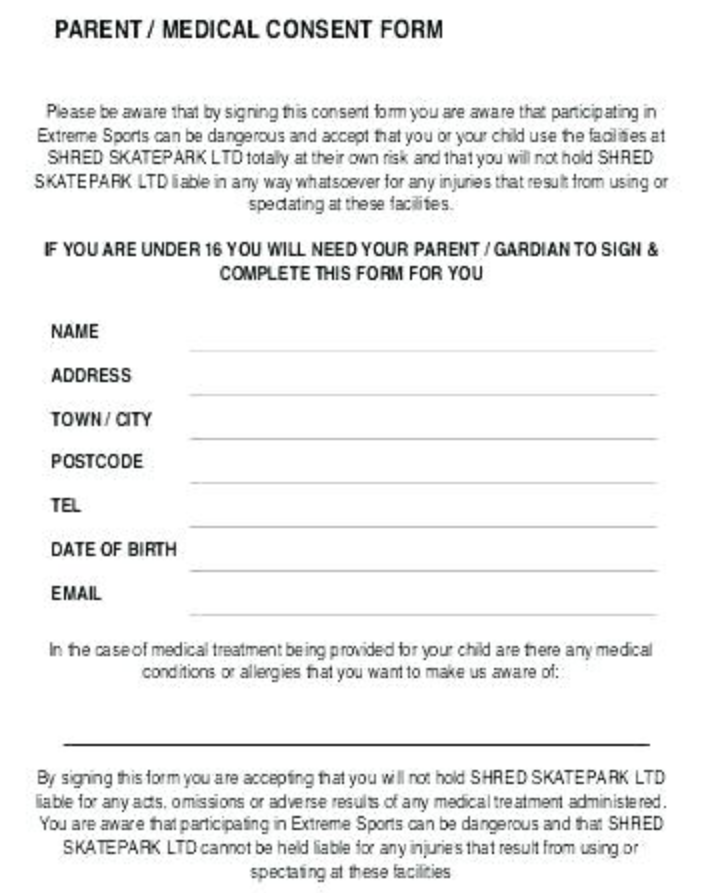textline: (53, 715, 659, 755), (181, 323, 666, 363), (180, 410, 667, 449), (179, 544, 664, 578), (181, 372, 668, 405), (180, 503, 666, 536), (180, 592, 667, 624), (181, 460, 667, 489)
